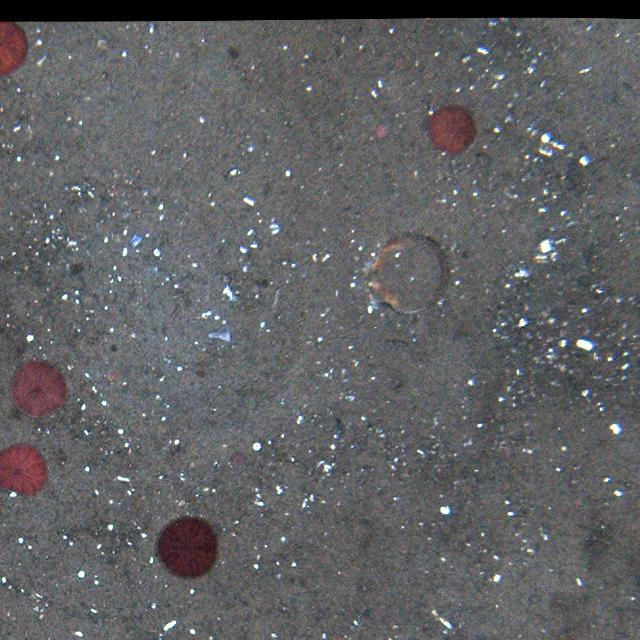scallop: (370, 230, 450, 321)
